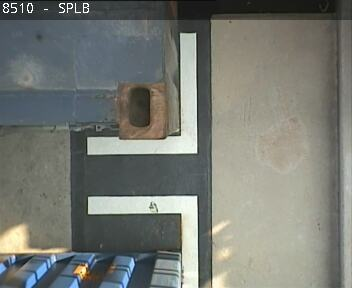groundmarker_1: (88, 30, 198, 288)
